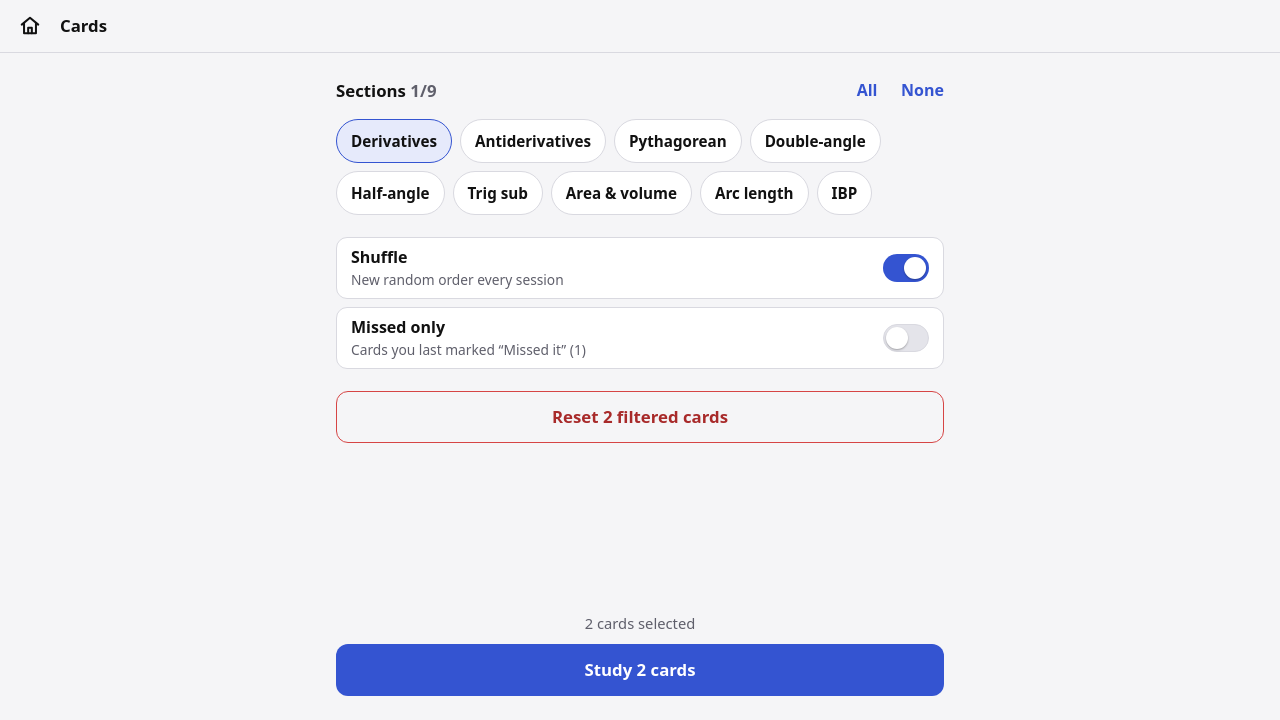
Scenario: reset › with a section filter resets only the filtered cards; without one, every card
This screenshot has width=1280, height=720.
Later steps or results of the test are not shown.
Click the button "Reset 2 filtered cards". click: [640, 417]
box: [336,391,944,443]
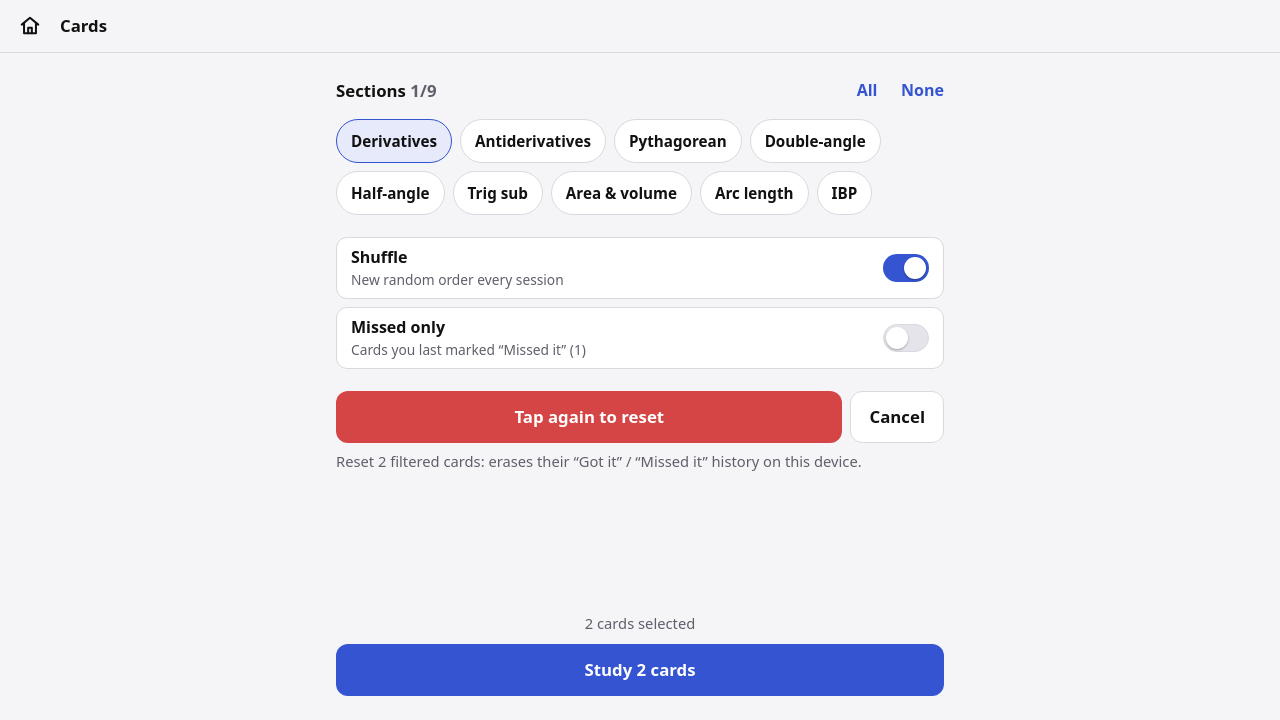
Click the button "Tap again to reset". click: [589, 417]
box: [336,391,842,443]
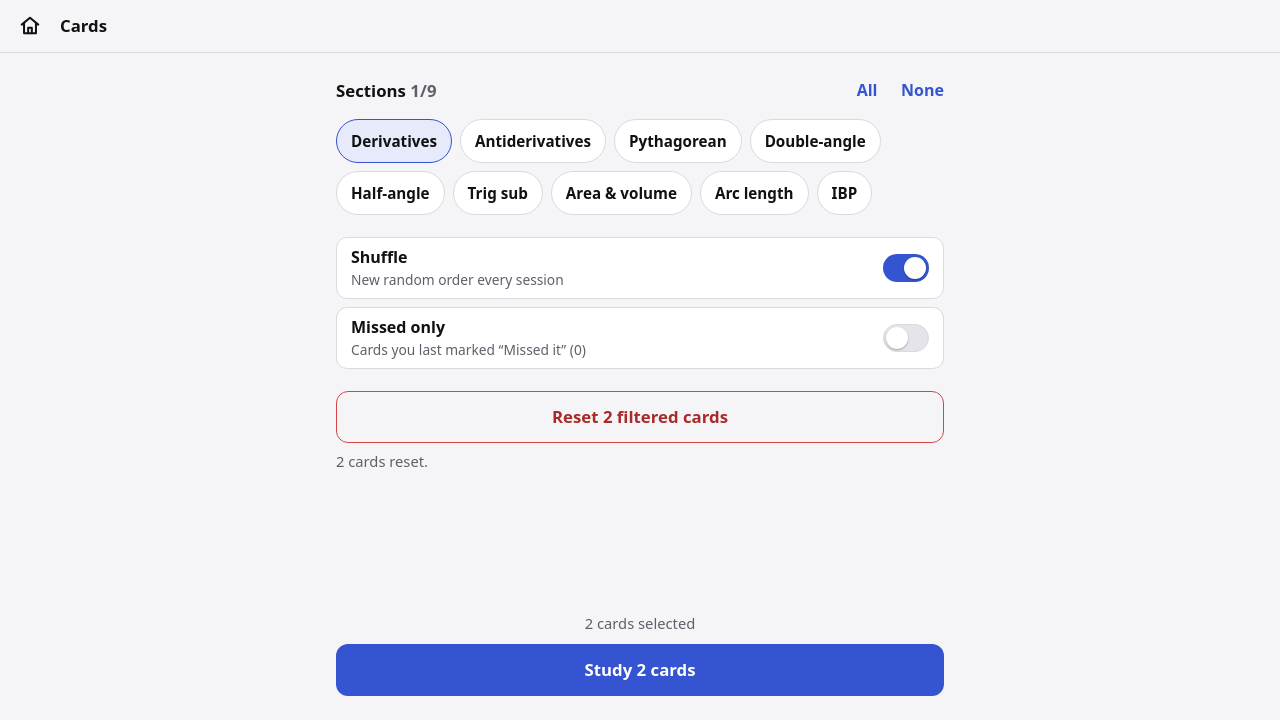
expect the text "2 cards reset." is shown: met, box [336,451,428,471]
